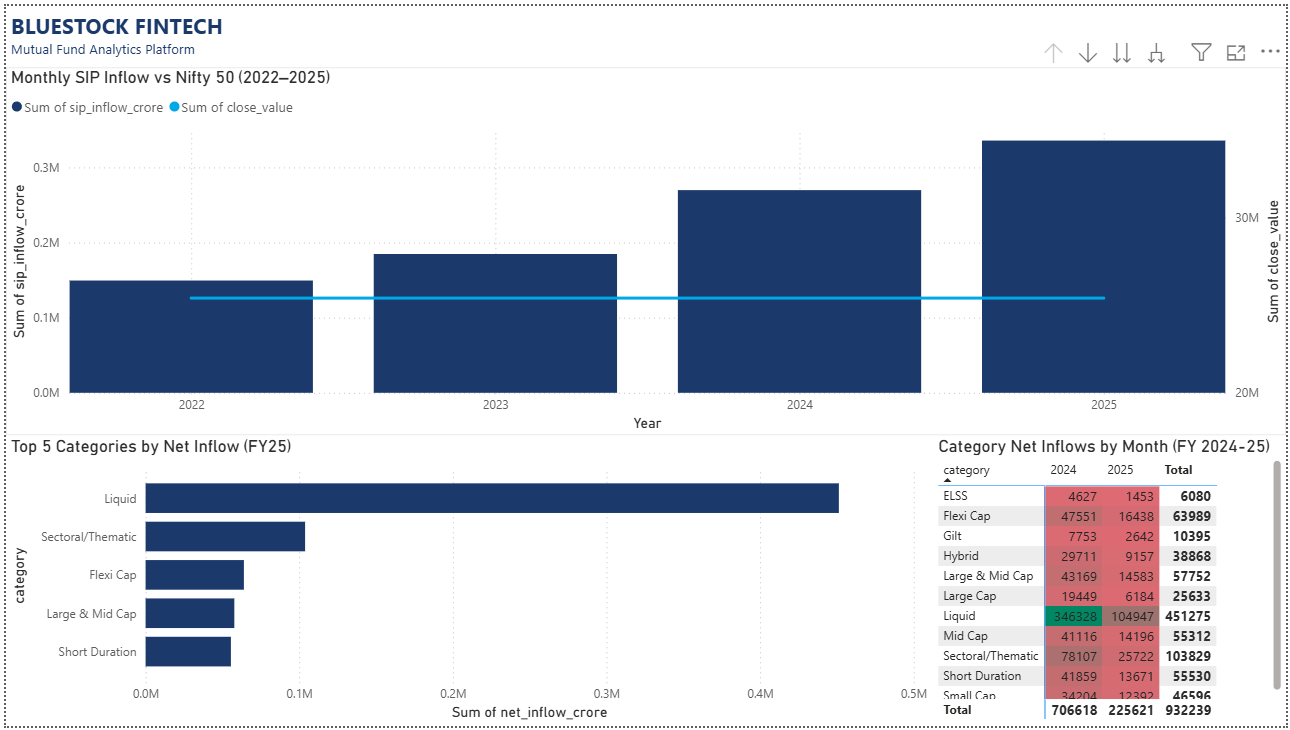

Layout of this report page (visuals, bound fields, positions):
{"tool":"powerbi","page":{"name":"SIP & Market Trends","canvas":[1280,720],"ordinal":3},"visuals":[{"type":"lineClusteredColumnComboChart","title":"Monthly SIP Inflow vs Nifty 50 (2022–2025)","fields":{"Category":["04_monthly_sip_inflows_clean.month.Variation.Date Hierarchy.Year","04_monthly_sip_inflows_clean.month.Variation.Date Hierarchy.Quarter","04_monthly_sip_inflows_clean.month.Variation.Date Hierarchy.Month","04_monthly_sip_inflows_clean.month.Variation.Date Hierarchy.Day"],"Y":["Sum(04_monthly_sip_inflows_clean.sip_inflow_crore)"],"Y2":["Sum(10_benchmark_indices_clean.close_value)"]},"box":[0,61.1,1280.3,369.3],"z":0},{"type":"pivotTable","title":"Category Net Inflows by Month (FY 2024-25)","fields":{"Rows":["05_category_inflows_clean.category"],"Columns":["05_category_inflows_clean.month.Variation.Date Hierarchy.Year","05_category_inflows_clean.month.Variation.Date Hierarchy.Quarter","05_category_inflows_clean.month.Variation.Date Hierarchy.Month","05_category_inflows_clean.month.Variation.Date Hierarchy.Day"],"Values":["Sum(05_category_inflows_clean.net_inflow_crore)"]},"box":[926.9,430.4,353.4,288.6],"z":1000},{"type":"clusteredBarChart","title":"Top 5 Categories by Net Inflow (FY25)","fields":{"Category":["05_category_inflows_clean.category"],"Y":["Sum(05_category_inflows_clean.net_inflow_crore)"]},"box":[0,430.4,926.9,289.8],"z":2000},{"type":"textbox","box":[0,0,238.5,61.1],"z":2001}]}

Visuals, with their boxes in screenshot pixels (x1, y1, x2, y2), scaled from the page's 1280x720 canvas onto the 1290x730 screenshot:
"Monthly SIP Inflow vs Nifty 50 (2022–2025)" lineClusteredColumnComboChart: <region>0, 62, 1289, 436</region>
"Category Net Inflows by Month (FY 2024-25)" pivotTable: <region>934, 436, 1289, 729</region>
"Top 5 Categories by Net Inflow (FY25)" clusteredBarChart: <region>0, 436, 934, 729</region>
textbox: <region>0, 0, 240, 62</region>
